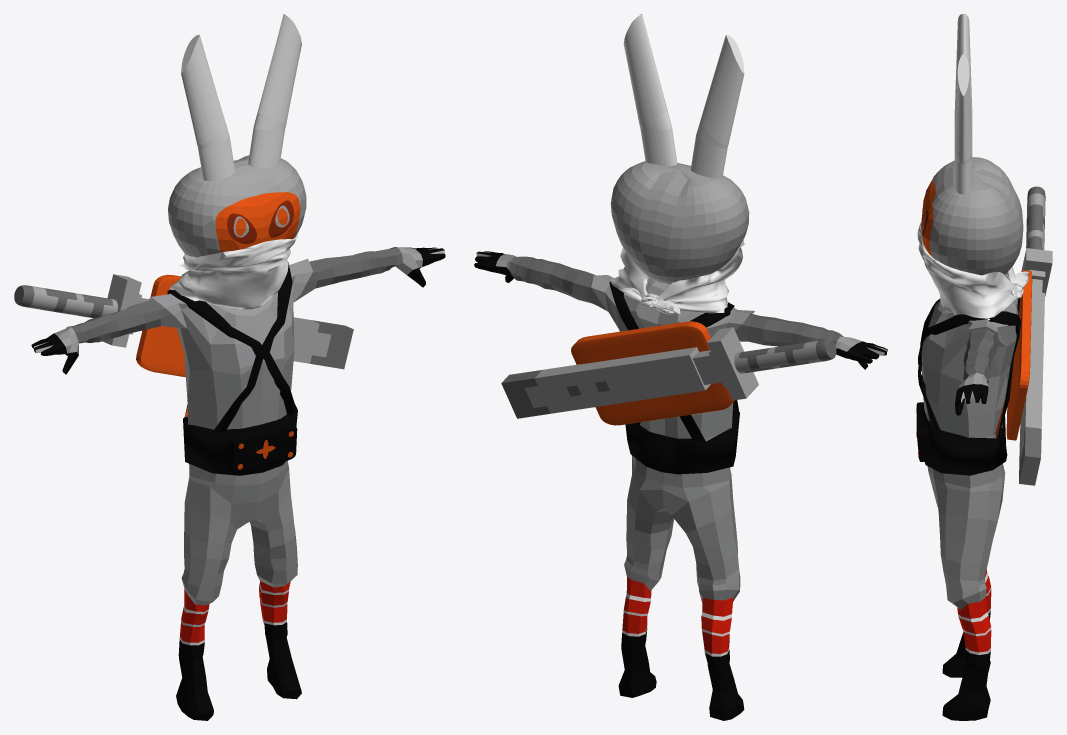
The model's file is ninja9.fbx.
3 views of the same model, side by side, from view 1: azimuth 30°, elevation 25°; view 2: azimuth 150°, elevation 25°; view 3: azimuth 270°, elevation 25° (orthographic). The views are drawn at different scales.
Parts seen in each view (by area): view 1: Cube.001, Cube.002; view 2: Cube.001, Cube.002; view 3: Cube.001, Cube.002.
Part boxes in pixels (<box>): Cube.001: <box>31,14,445,720</box>; Cube.002: <box>14,274,353,377</box>; Cube.001: <box>474,14,887,720</box>; Cube.002: <box>501,321,836,425</box>; Cube.001: <box>916,14,1028,720</box>; Cube.002: <box>1006,186,1052,485</box>.
Bounding box in the file's own units: 253 × 401 × 75.02.
